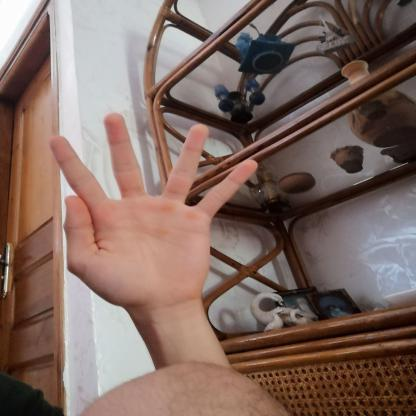SHEEN: (27, 101, 273, 322)
